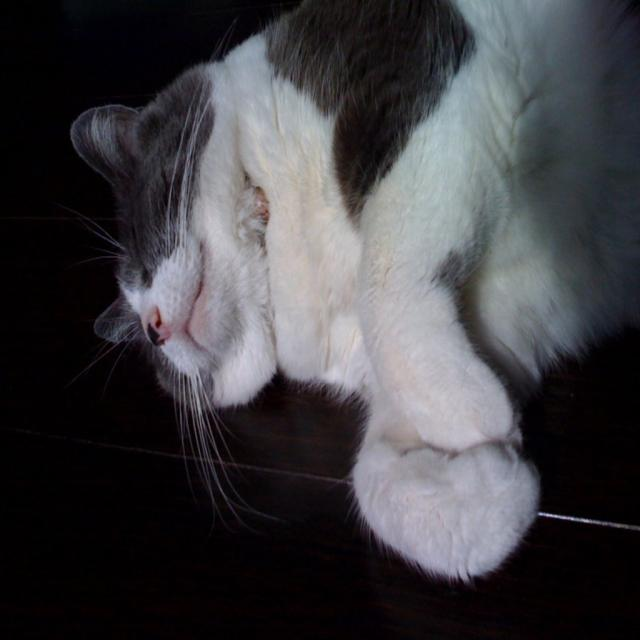Cat: (54, 0, 639, 583)
